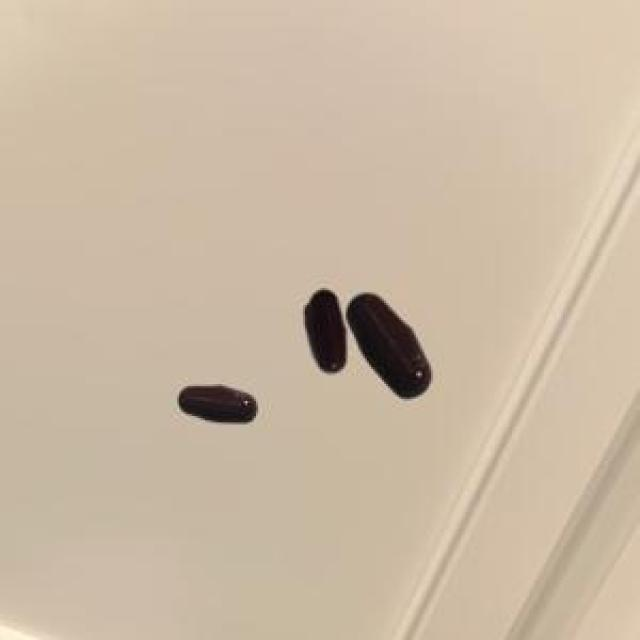DayZinc: (294, 274, 449, 408), (169, 371, 267, 439)
